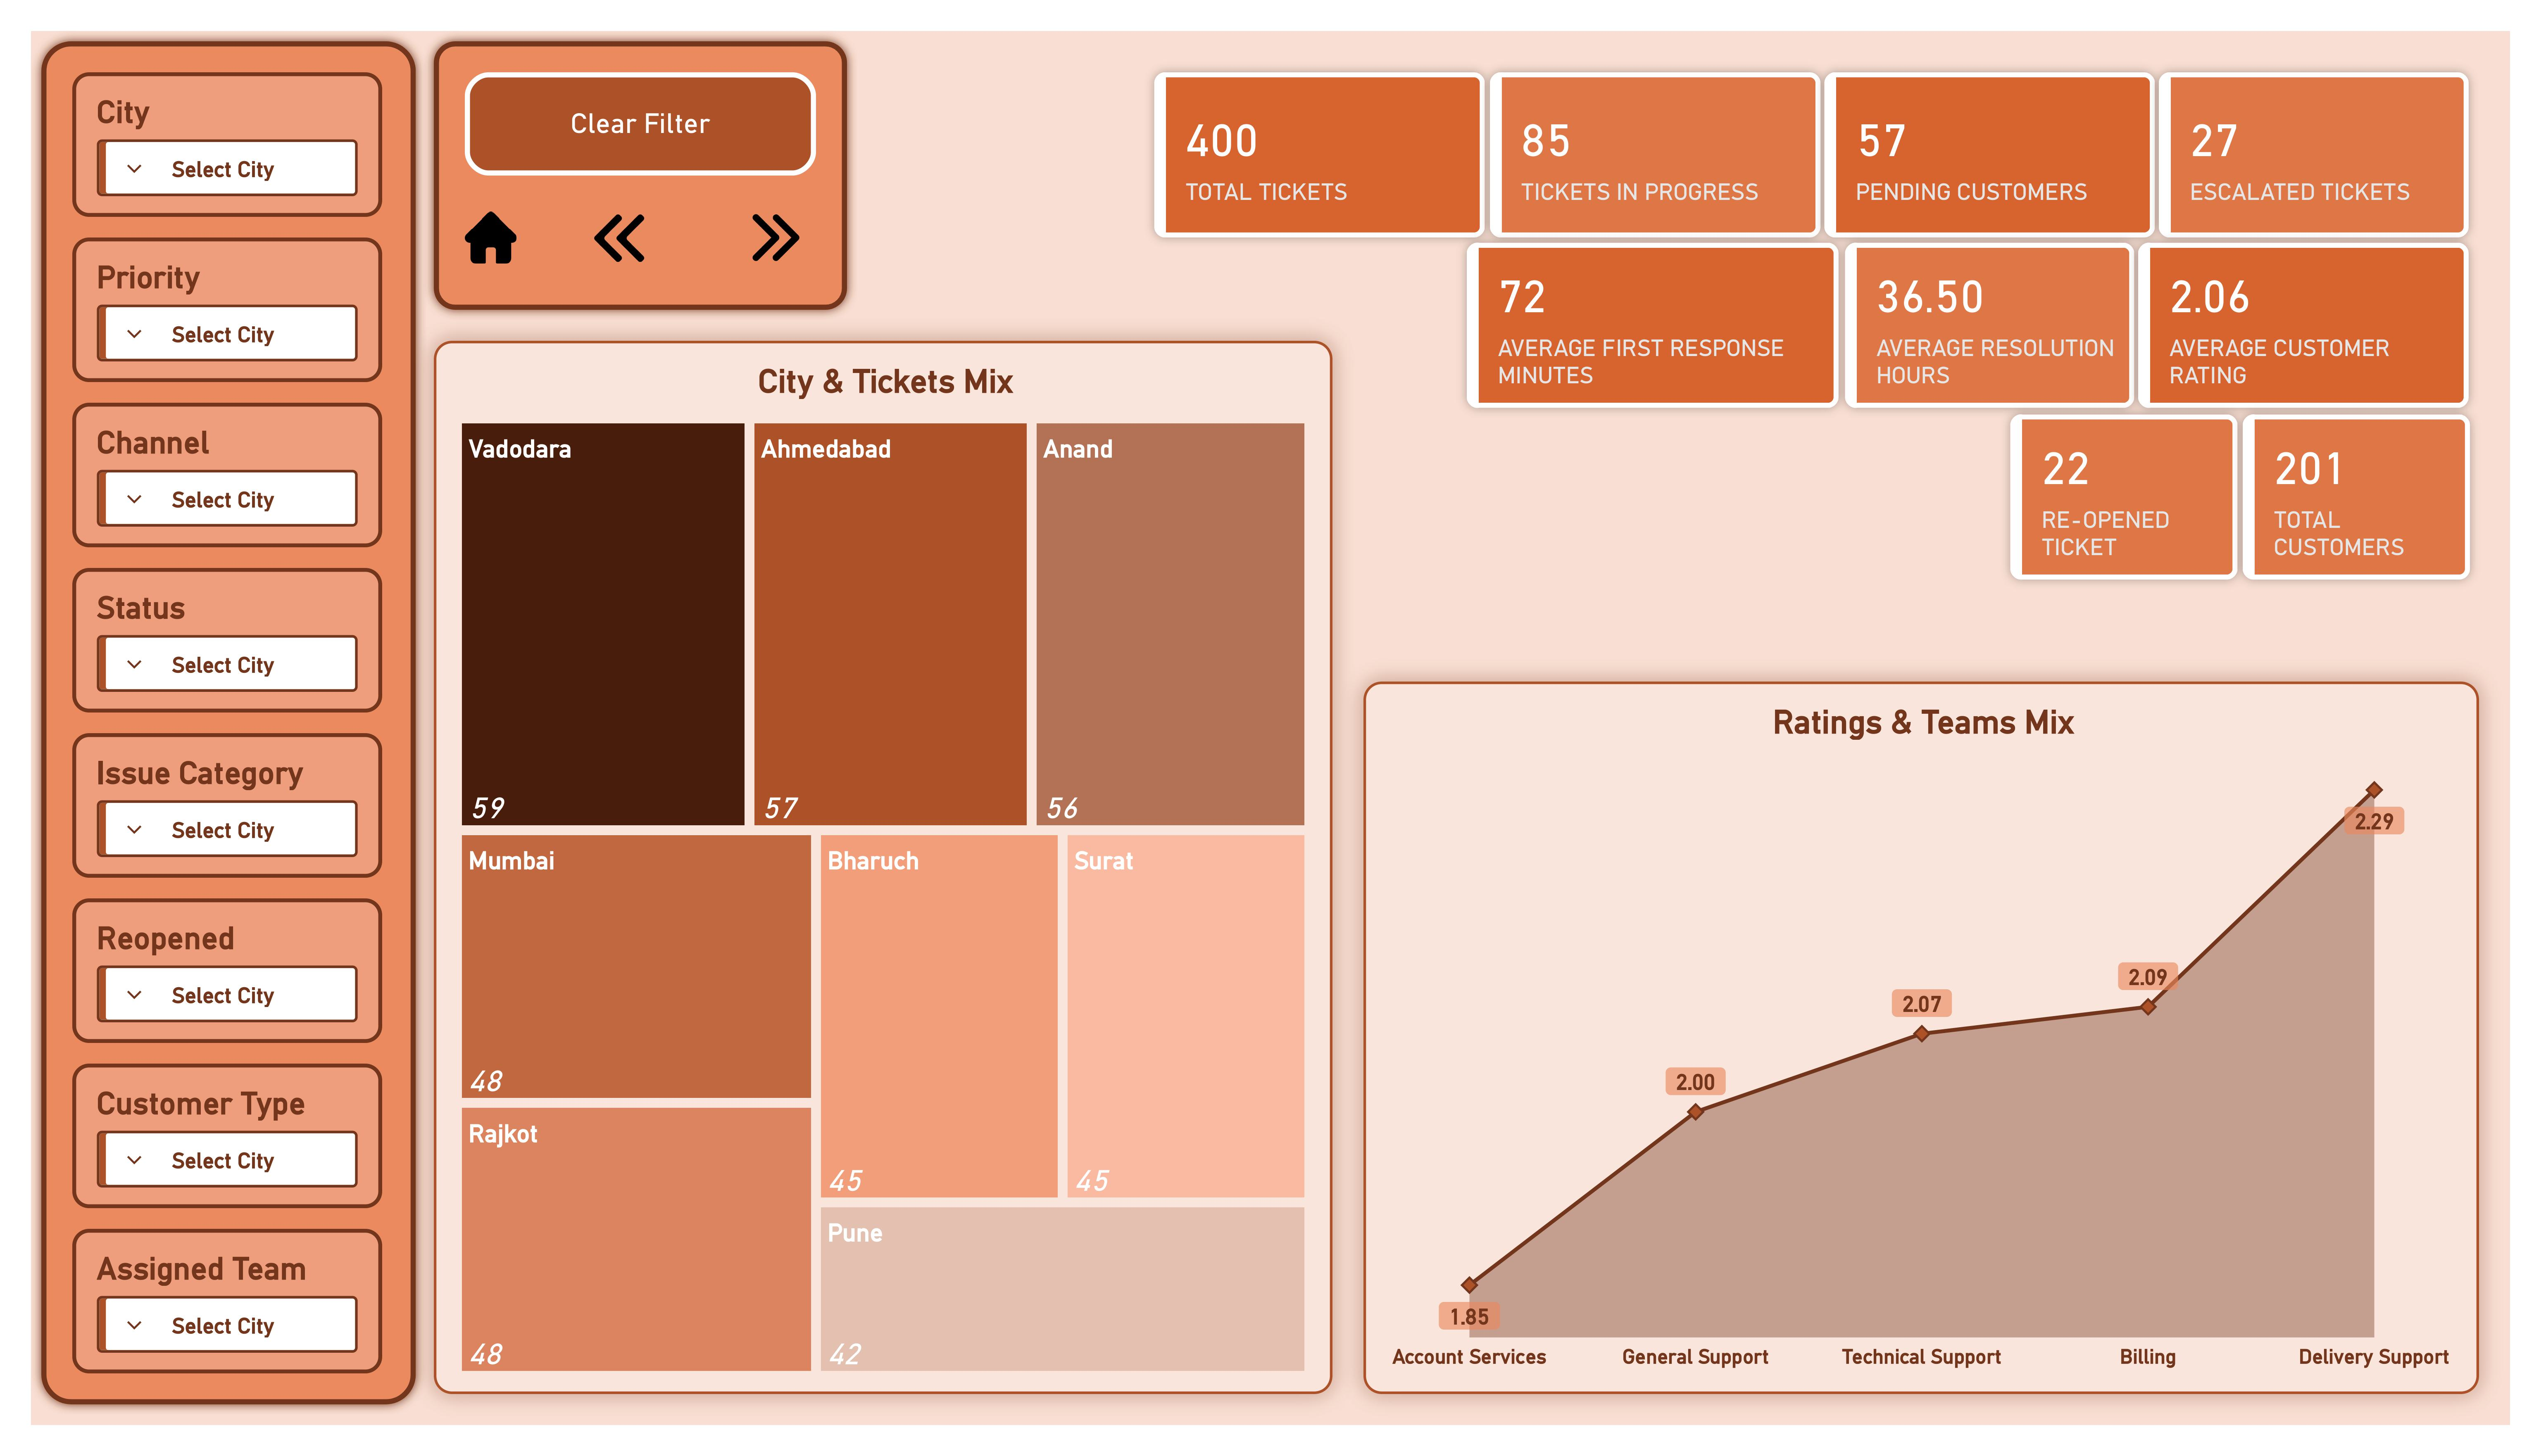

Layout of this report page (visuals, bound fields, positions):
{"tool":"powerbi","page":{"name":"Page 3","canvas":[1920,1080],"ordinal":2},"visuals":[{"type":"shape","box":[304,0,336,224],"z":0,"group":"g1"},{"type":"cardVisual","fields":{"Data":["_measure.TOTAL TICKETS"]},"box":[854,16,288,160],"z":0},{"type":"shape","box":[0,0,306,1072],"z":500,"group":"g1"},{"type":"cardVisual","fields":{"Data":["_measure.TICKETS IN PROGRESS"]},"box":[1114,16,288,160],"z":1000},{"type":"image","box":[336,128,40,64],"z":1000,"group":"g2"},{"type":"cardVisual","fields":{"Data":["_measure.PENDING CUSTOMERS"]},"box":[1373,16,288,160],"z":2000},{"type":"cardVisual","fields":{"Data":["_measure.ESCALATED TICKETS"]},"box":[1632,16,272,160],"z":3000},{"type":"actionButton","box":[336,32,272,80],"z":3000,"group":"g1"},{"type":"image","box":[545.9,128,62.1,64],"z":3000,"group":"g3"},{"type":"image","box":[432,136,46.6,48],"z":4000,"group":"g3"},{"type":"cardVisual","fields":{"Data":["_measure.AVERAGE 1st RESPONSE MINUTES"]},"box":[1096,148,320,160],"z":4000},{"type":"cardVisual","fields":{"Data":["_measure.AVERAGE RESOLUTION HOURS"]},"box":[1389,148,256,160],"z":5000},{"type":"cardVisual","fields":{"Data":["_measure.AVERAGE CUSTOMER RATING"]},"box":[1616,148,288,160],"z":6000},{"type":"listSlicer","fields":{"Values":["Customer_Support_Tickets.Priority"]},"box":[32,160,240,112],"z":7000,"group":"g1"},{"type":"cardVisual","fields":{"Data":["_measure.RE-OPENED TICKET"]},"box":[1517,281,208,160],"z":7000},{"type":"cardVisual","fields":{"Data":["_measure.TOTAL CUSTOMERS"]},"box":[1697,281,208,160],"z":8000},{"type":"treemap","title":"City & Tickets Mix","fields":{"Group":["Customer_Support_Tickets.City"],"Values":["_measure.TOTAL TICKETS"]},"box":[312,240,696,816],"z":9000},{"type":"lineChart","title":"Ratings & Teams Mix","fields":{"Category":["Customer_Support_Tickets.Assigned_Team"],"Y":["_measure.AVERAGE CUSTOMER RATING"]},"box":[1032,504,864,552],"z":10000},{"type":"group","id":"g1","title":"Group 3","box":[0,0,640,1072],"z":11000},{"type":"group","id":"g2","title":"Group 2","box":[336,128,272,64],"z":14000,"group":"g1"},{"type":"listSlicer","fields":{"Values":["Customer_Support_Tickets.City"]},"box":[32,32,240,112],"z":22000,"group":"g1"},{"type":"group","id":"g3","title":"Group 1","box":[432,128,176,64],"z":23001,"group":"g2"},{"type":"listSlicer","fields":{"Values":["Customer_Support_Tickets.Issue_Category"]},"box":[32,544,240,112],"z":23500,"group":"g1"},{"type":"listSlicer","fields":{"Values":["Customer_Support_Tickets.Channel"]},"box":[32,288,240,112],"z":24000,"group":"g1"},{"type":"listSlicer","fields":{"Values":["Customer_Support_Tickets.Reopened"]},"box":[32,672,240,112],"z":25000,"group":"g1"},{"type":"listSlicer","fields":{"Values":["Customer_Support_Tickets.Status"]},"box":[32,416,240,112],"z":25500,"group":"g1"},{"type":"listSlicer","fields":{"Values":["Customer_Support_Tickets.Customer_Type"]},"box":[32,800,240,112],"z":28001,"group":"g1"},{"type":"listSlicer","fields":{"Values":["Customer_Support_Tickets.Assigned_Team"]},"box":[32,928,240,112],"z":28501,"group":"g1"}]}

Visuals, with their boxes on the page's 1920x1080 design canvas (x1, y1, x2, y2). These are canvas units, not pixel positions in the 2541x1456 screenshot, which may show the page scaled, cropped or inside an application window:
shape: 304 0 640 224
cardVisual - _measure.TOTAL TICKETS: 854 16 1142 176
shape: 0 0 306 1072
cardVisual - _measure.TICKETS IN PROGRESS: 1114 16 1402 176
image: 336 128 376 192
cardVisual - _measure.PENDING CUSTOMERS: 1373 16 1661 176
cardVisual - _measure.ESCALATED TICKETS: 1632 16 1904 176
actionButton: 336 32 608 112
image: 546 128 608 192
image: 432 136 479 184
cardVisual - _measure.AVERAGE 1st RESPONSE MINUTES: 1096 148 1416 308
cardVisual - _measure.AVERAGE RESOLUTION HOURS: 1389 148 1645 308
cardVisual - _measure.AVERAGE CUSTOMER RATING: 1616 148 1904 308
listSlicer - Customer_Support_Tickets.Priority: 32 160 272 272
cardVisual - _measure.RE-OPENED TICKET: 1517 281 1725 441
cardVisual - _measure.TOTAL CUSTOMERS: 1697 281 1905 441
"City & Tickets Mix" treemap: 312 240 1008 1056
"Ratings & Teams Mix" lineChart: 1032 504 1896 1056
"Group 3" group: 0 0 640 1072
"Group 2" group: 336 128 608 192
listSlicer - Customer_Support_Tickets.City: 32 32 272 144
"Group 1" group: 432 128 608 192
listSlicer - Customer_Support_Tickets.Issue_Category: 32 544 272 656
listSlicer - Customer_Support_Tickets.Channel: 32 288 272 400
listSlicer - Customer_Support_Tickets.Reopened: 32 672 272 784
listSlicer - Customer_Support_Tickets.Status: 32 416 272 528
listSlicer - Customer_Support_Tickets.Customer_Type: 32 800 272 912
listSlicer - Customer_Support_Tickets.Assigned_Team: 32 928 272 1040
